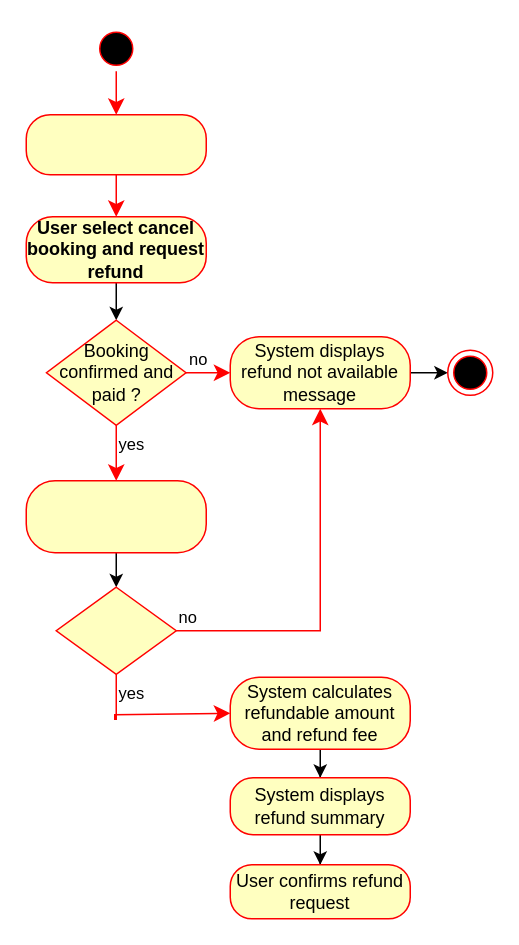
This 519x945 diagram has some shape labels left out. Here are the shapes that lost their labels. From the top down, the box of each, then its label:
(25, 113, 206, 175): User opens booking details page
(25, 479, 206, 553): System check departure time and refund rules
(55, 586, 176, 674): Refund eligible ?
